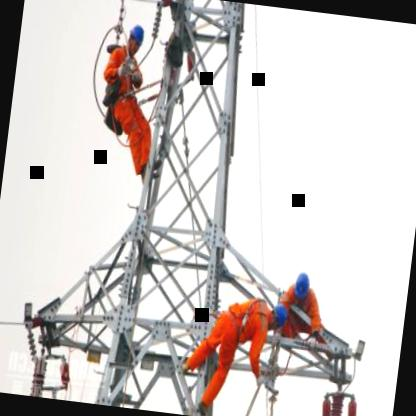helmet: (262, 300, 290, 334), (289, 270, 314, 306), (125, 18, 148, 54)
